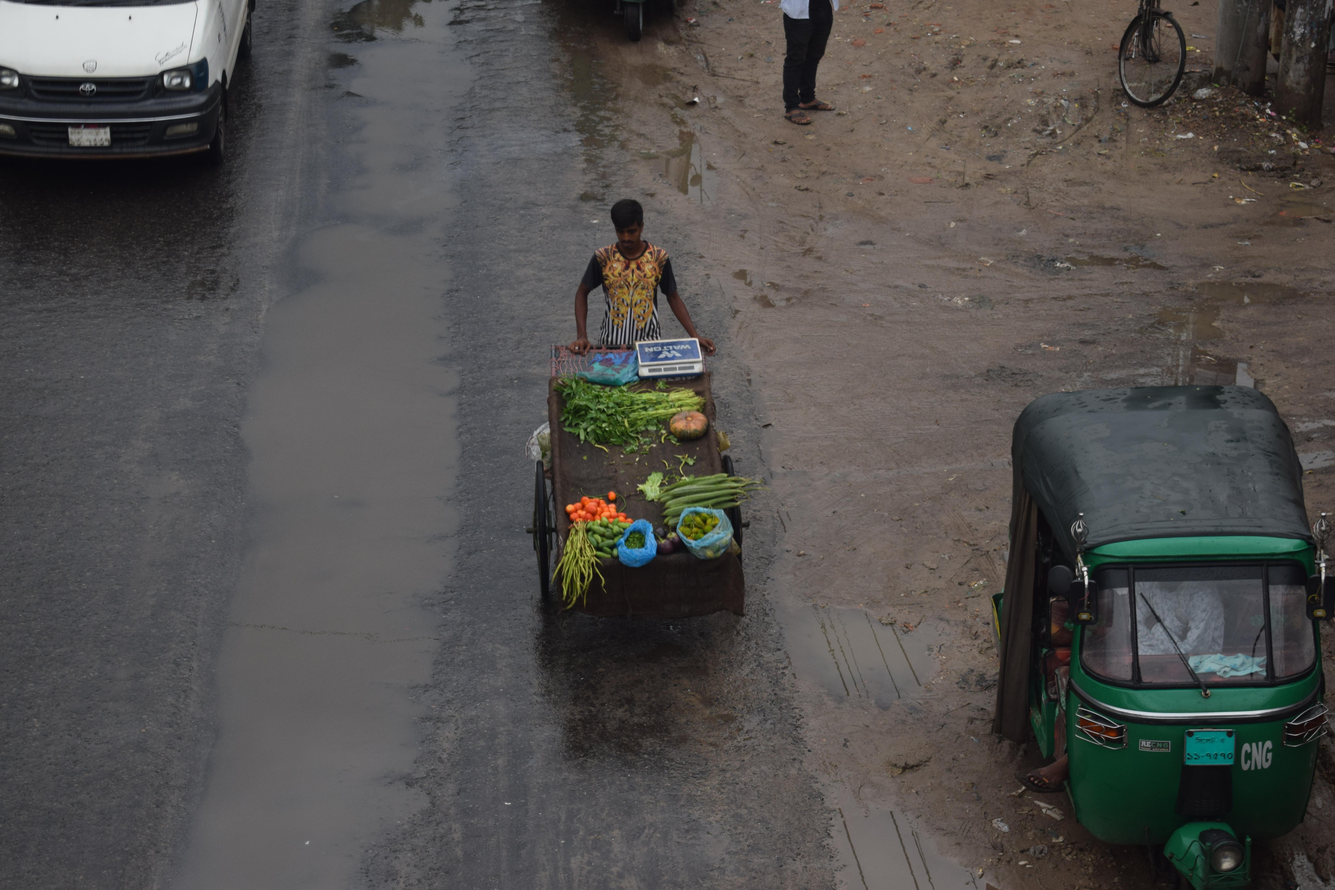Car: (0, 0, 314, 227)
